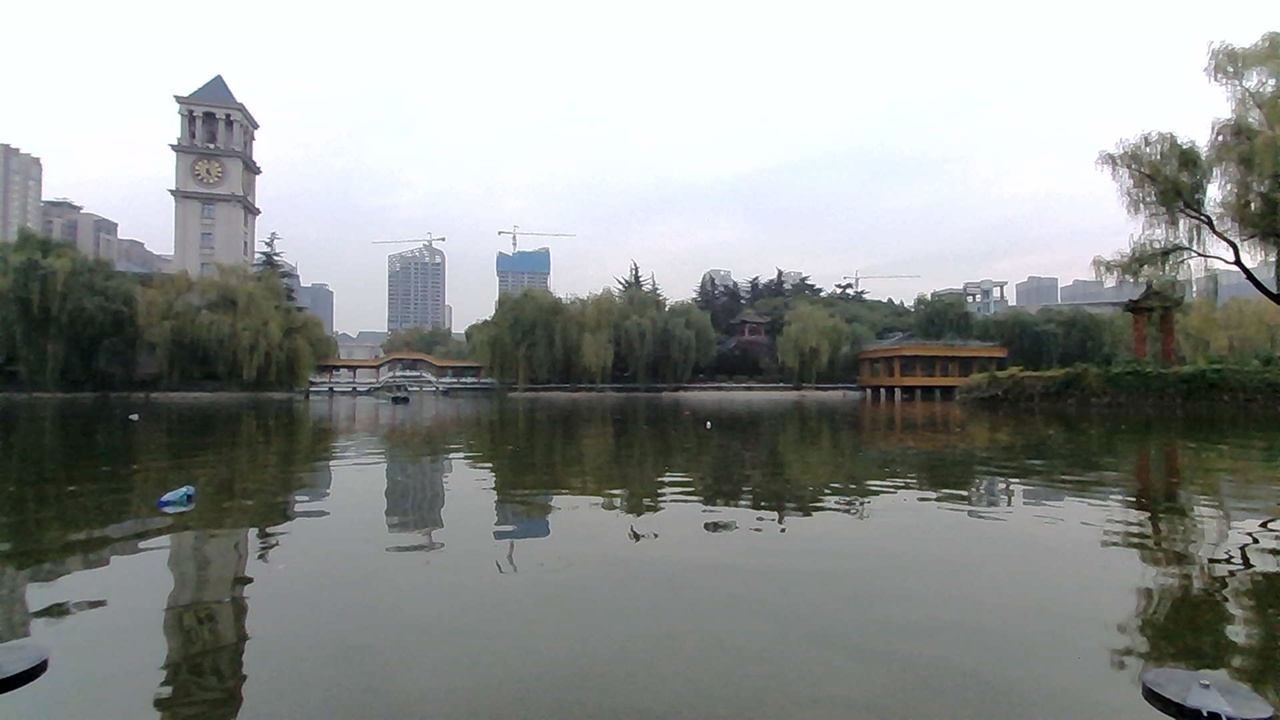bottle: (151, 477, 207, 514), (124, 407, 163, 432), (695, 410, 724, 437)
